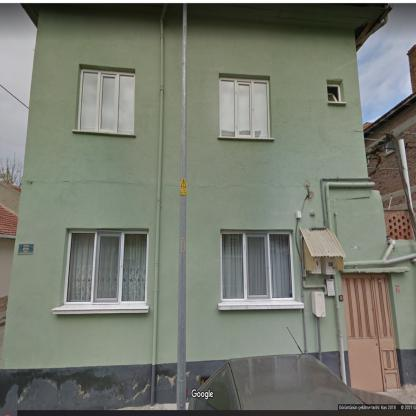door: (340, 275, 400, 391)
window: (63, 230, 147, 304), (222, 232, 294, 301), (77, 70, 134, 135), (220, 79, 269, 138), (328, 87, 340, 102)
